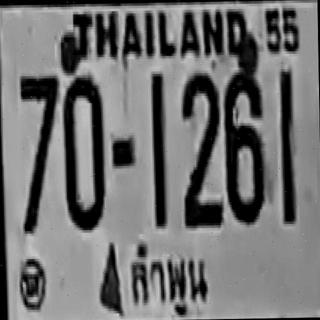N00: (62, 74, 104, 228)
N01: (278, 68, 296, 222), (149, 72, 166, 225)
N02: (179, 71, 221, 224)
N06: (223, 69, 265, 222)
N07: (19, 73, 59, 231), (19, 73, 58, 180)
P21: (124, 233, 211, 320)
